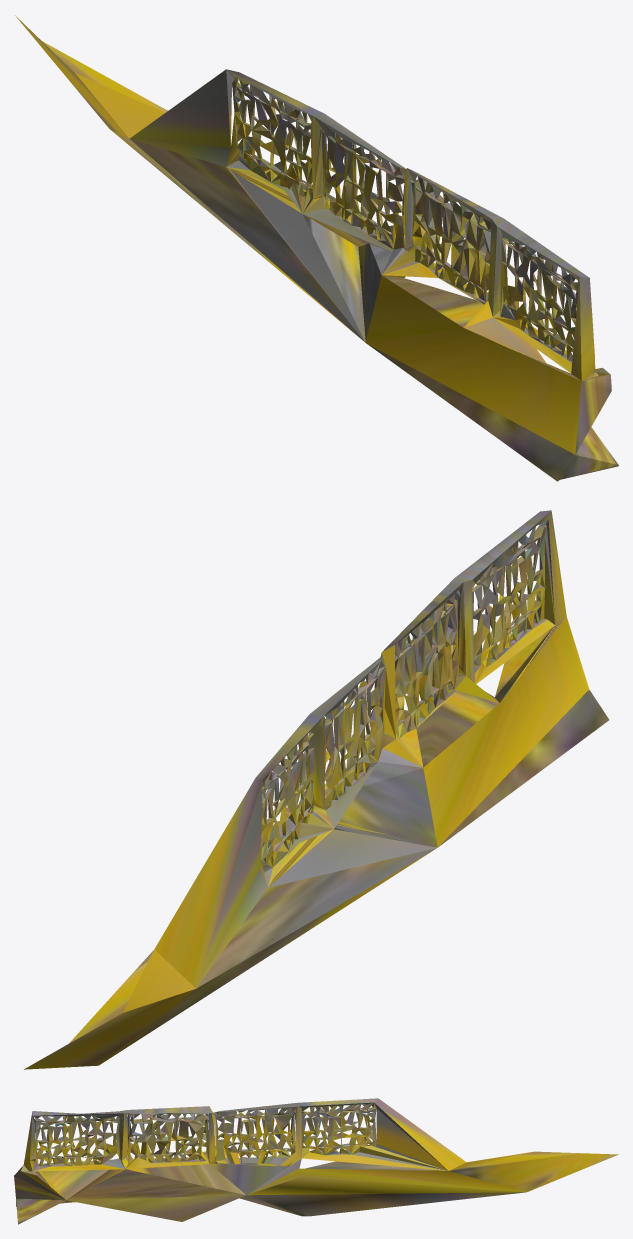
The model's file is k04_far.glb.
The picture shows the model from 3 angles, top to bottom: view 1: azimuth 30°, elevation 25°; view 2: azimuth 150°, elevation 25°; view 3: azimuth 270°, elevation 25°; orthographic projection. The views are drawn at different scales.
Parts seen in each view (by area): view 1: k04_far; view 2: k04_far; view 3: k04_far.
Part boxes in pixels (x1,y1,x2,y2): k04_far: [15, 15, 618, 481]; k04_far: [24, 510, 609, 1069]; k04_far: [14, 1098, 618, 1224].
Bounding box in the file's own units: 2.7 × 5 × 25.77.
1 material, 1 textured.
